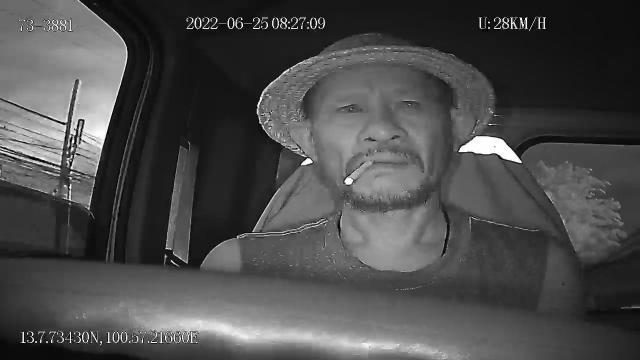SafeDriving: (332, 94, 371, 119), (390, 92, 427, 116)
Smoking: (345, 159, 375, 189)
